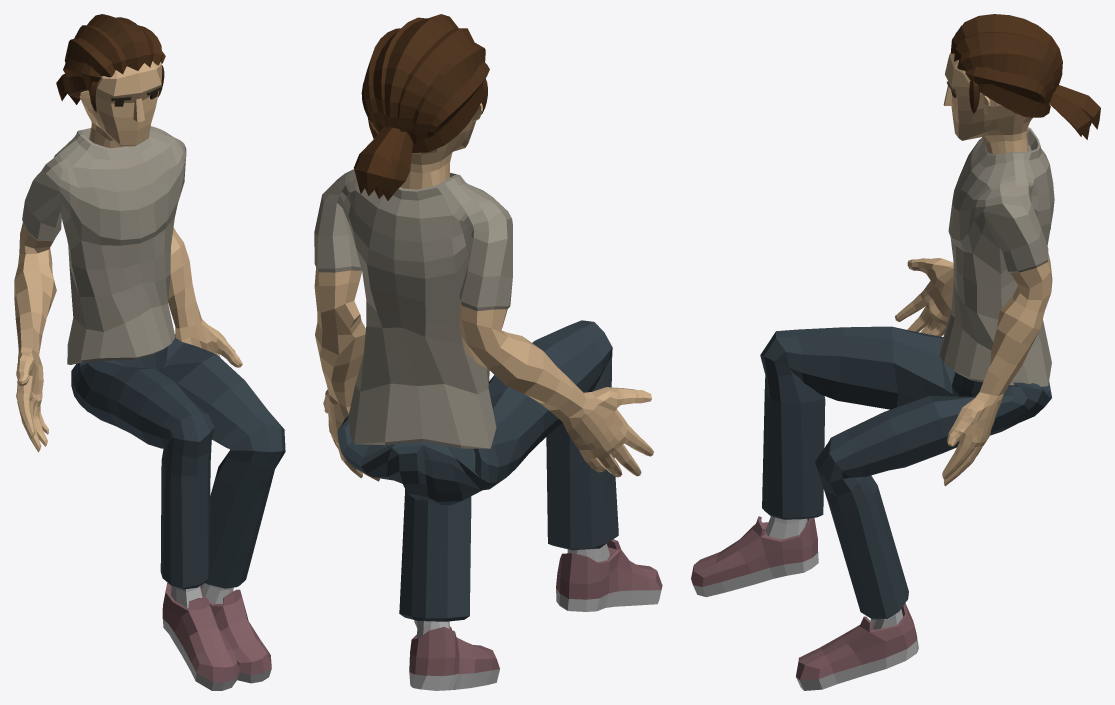
Rendered from man-casual.glb.
3 renders of one model, left to right at view 1: azimuth 30°, elevation 25°; view 2: azimuth 150°, elevation 25°; view 3: azimuth 270°, elevation 25°, orthographic. The views are drawn at different scales.
Parts seen in each view (by area): view 1: man-casual; view 2: man-casual; view 3: man-casual.
Boxes of the visible parts, x1,y1,x2,y2 form: man-casual: [14, 14, 285, 690]; man-casual: [314, 14, 662, 690]; man-casual: [691, 14, 1100, 690].
Size of the model in its own units: 0.63 by 1.5 by 0.8636.
